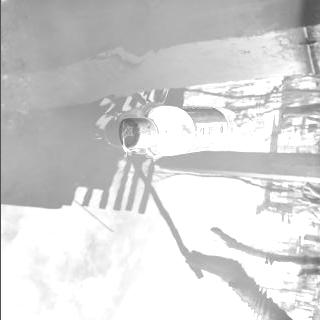bottle: (115, 104, 244, 160)
